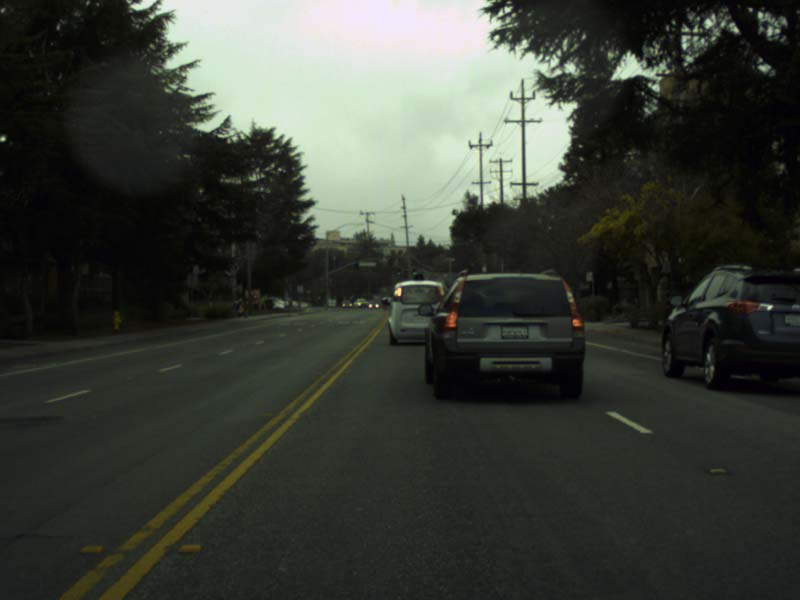Green: (440, 281, 445, 294), (396, 268, 399, 275), (412, 267, 415, 274)
